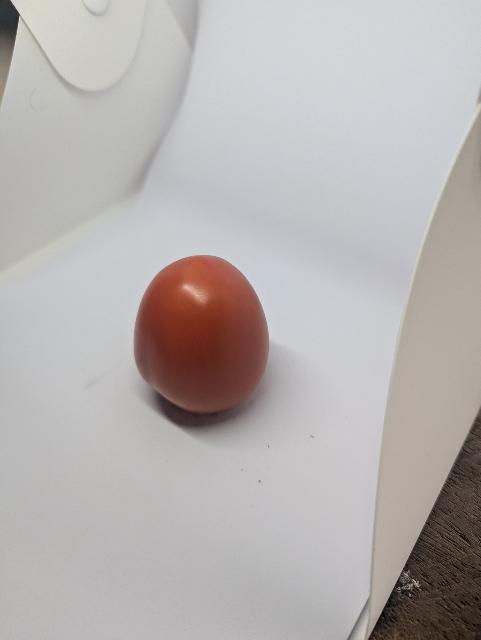red: (127, 247, 277, 430)
